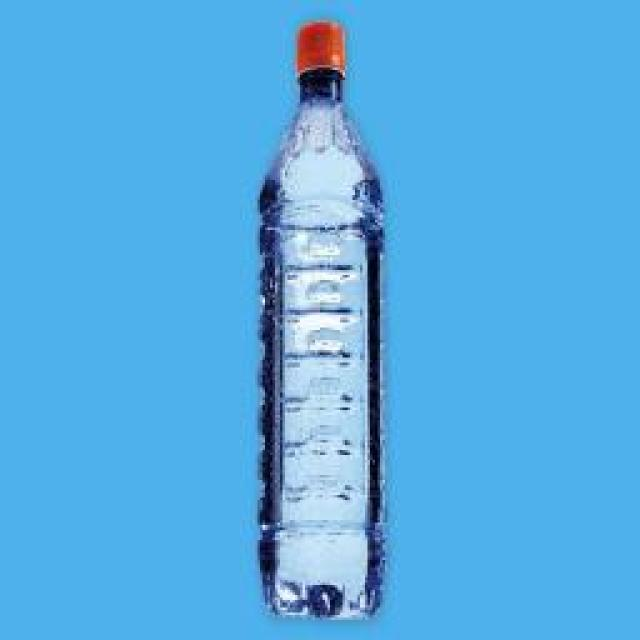bottle: (252, 18, 397, 625)
